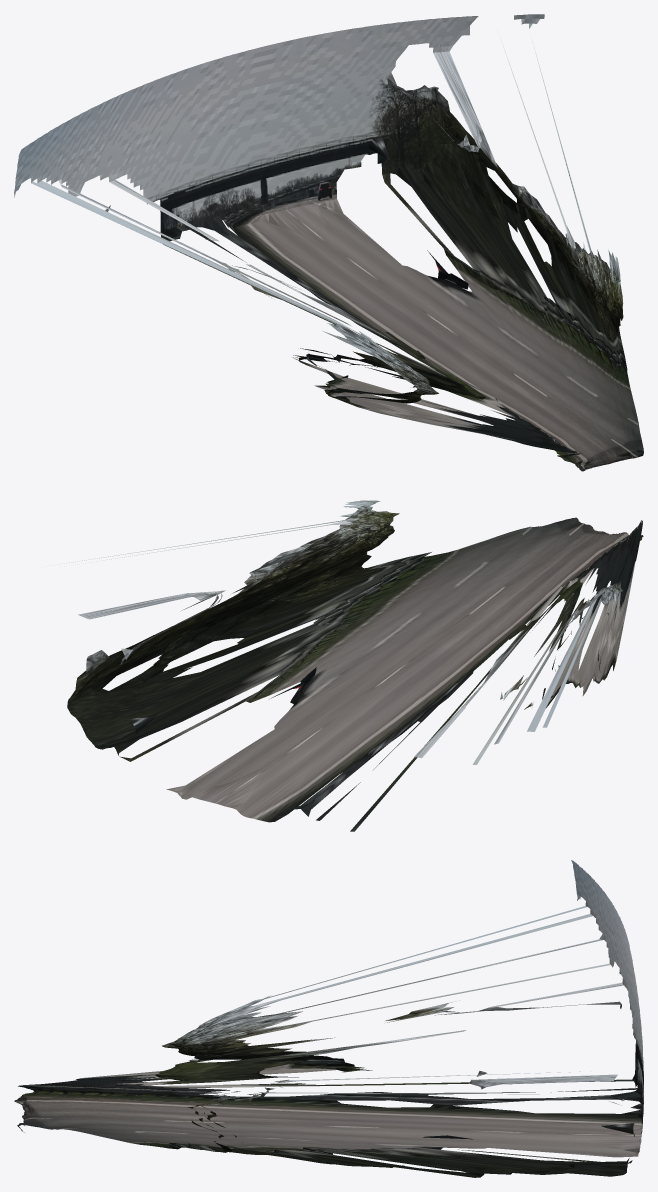
The picture shows the model from 3 angles, top to bottom: view 1: azimuth 30°, elevation 25°; view 2: azimuth 150°, elevation 25°; view 3: azimuth 270°, elevation 25°; orthographic projection. The views are drawn at different scales.
Parts seen in each view (by area): view 1: defaultobject; view 2: defaultobject; view 3: defaultobject.
Part boxes in pixels (x1,y1,x2,y2): defaultobject: [14, 14, 643, 471]; defaultobject: [49, 500, 643, 831]; defaultobject: [14, 860, 643, 1177].
Size of the model in its own units: 38.8 by 12.49 by 44.8.
1 material, 1 textured.
